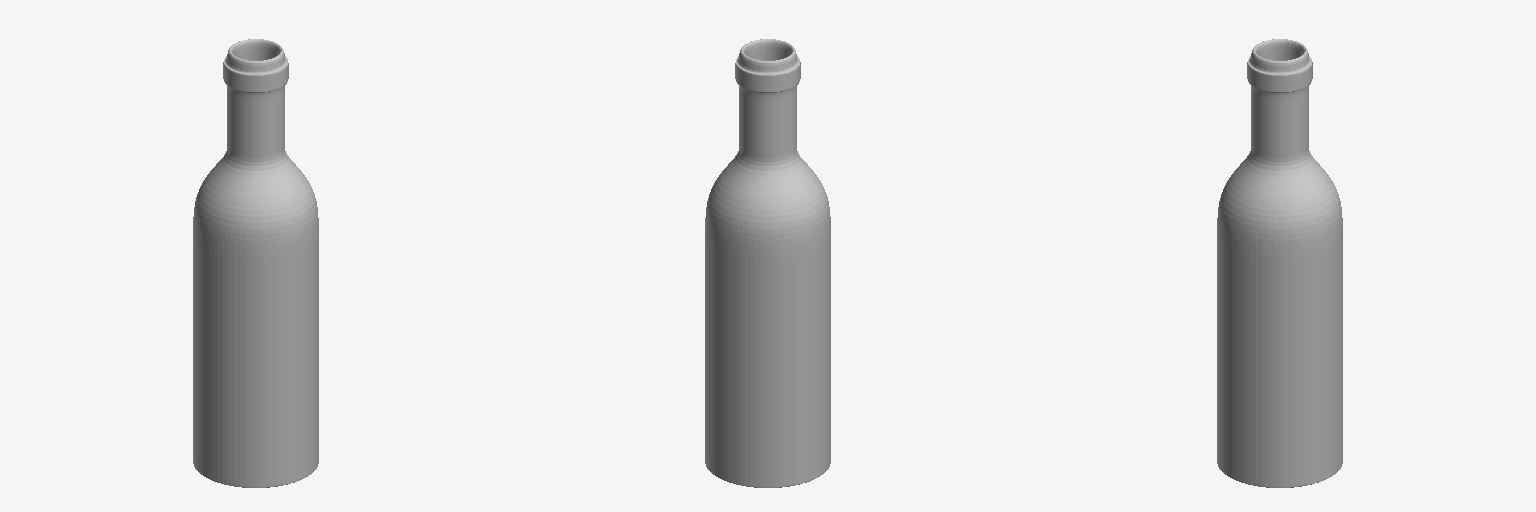
File: BottleOfWine2.obj
3 views of the same model, side by side, from view 1: azimuth 30°, elevation 25°; view 2: azimuth 150°, elevation 25°; view 3: azimuth 270°, elevation 25° (orthographic).
Visible parts, largest first — view 1: BottleOfWine_Mesh; view 2: BottleOfWine_Mesh; view 3: BottleOfWine_Mesh.
Boxes of the visible parts, box(x1,y1,x2,y2) form: BottleOfWine_Mesh: box(193, 39, 318, 487); BottleOfWine_Mesh: box(705, 39, 830, 487); BottleOfWine_Mesh: box(1217, 39, 1342, 487).
Bounding box in the file's own units: 3.2 × 11.56 × 3.2.